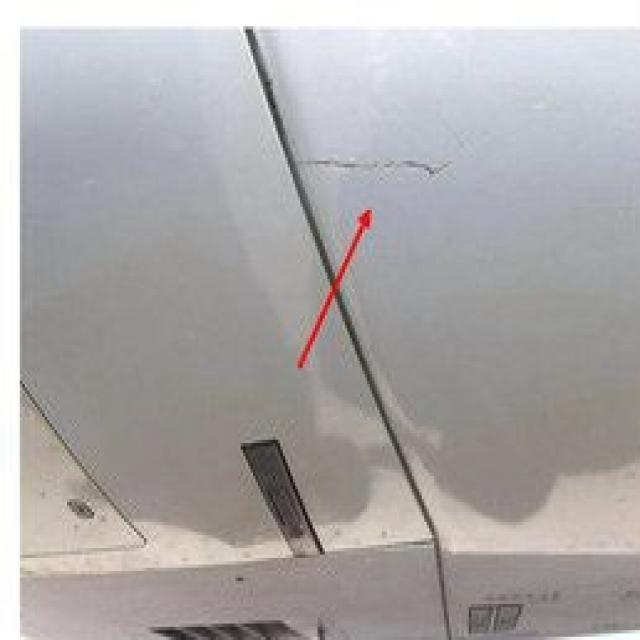crack: (297, 142, 463, 205)
